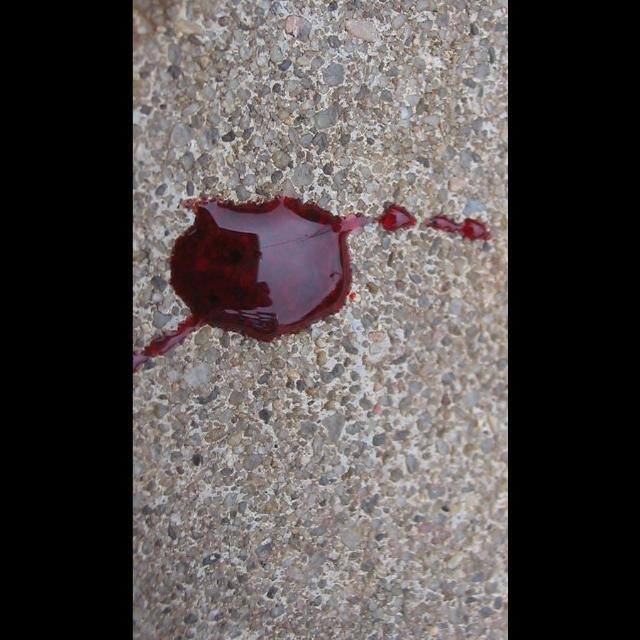blood: (133, 194, 418, 373), (424, 214, 494, 242)
